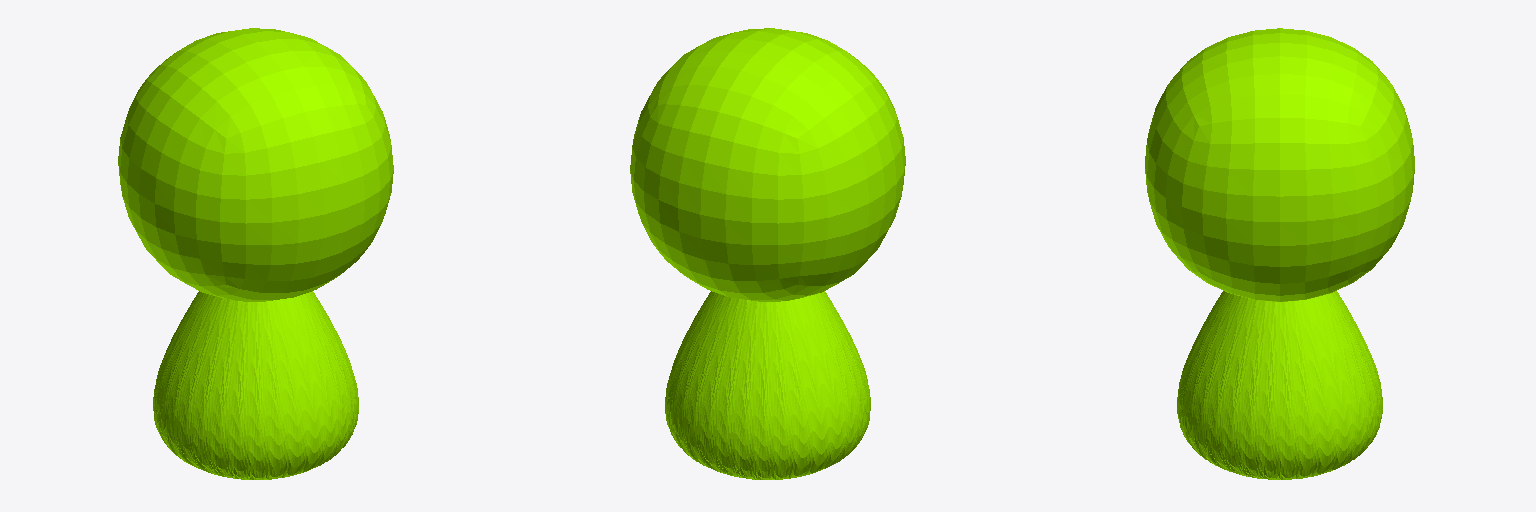
3 renders of one model, left to right at view 1: azimuth 30°, elevation 25°; view 2: azimuth 150°, elevation 25°; view 3: azimuth 270°, elevation 25°, orthographic.
Visible parts, largest first — view 1: Cube; view 2: Cube; view 3: Cube.
Boxes of the visible parts, x1=… form: Cube: x1=118, y1=28, x2=393, y2=479; Cube: x1=630, y1=28, x2=905, y2=479; Cube: x1=1145, y1=28, x2=1414, y2=479.
Bounding box in the file's own units: 1.68 × 2.92 × 1.68.
1 materials, 1 textured.